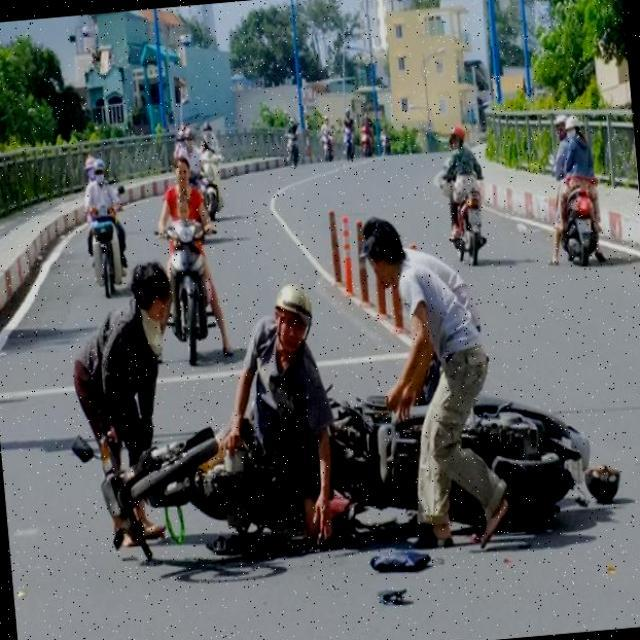accident: (36, 218, 632, 591)
